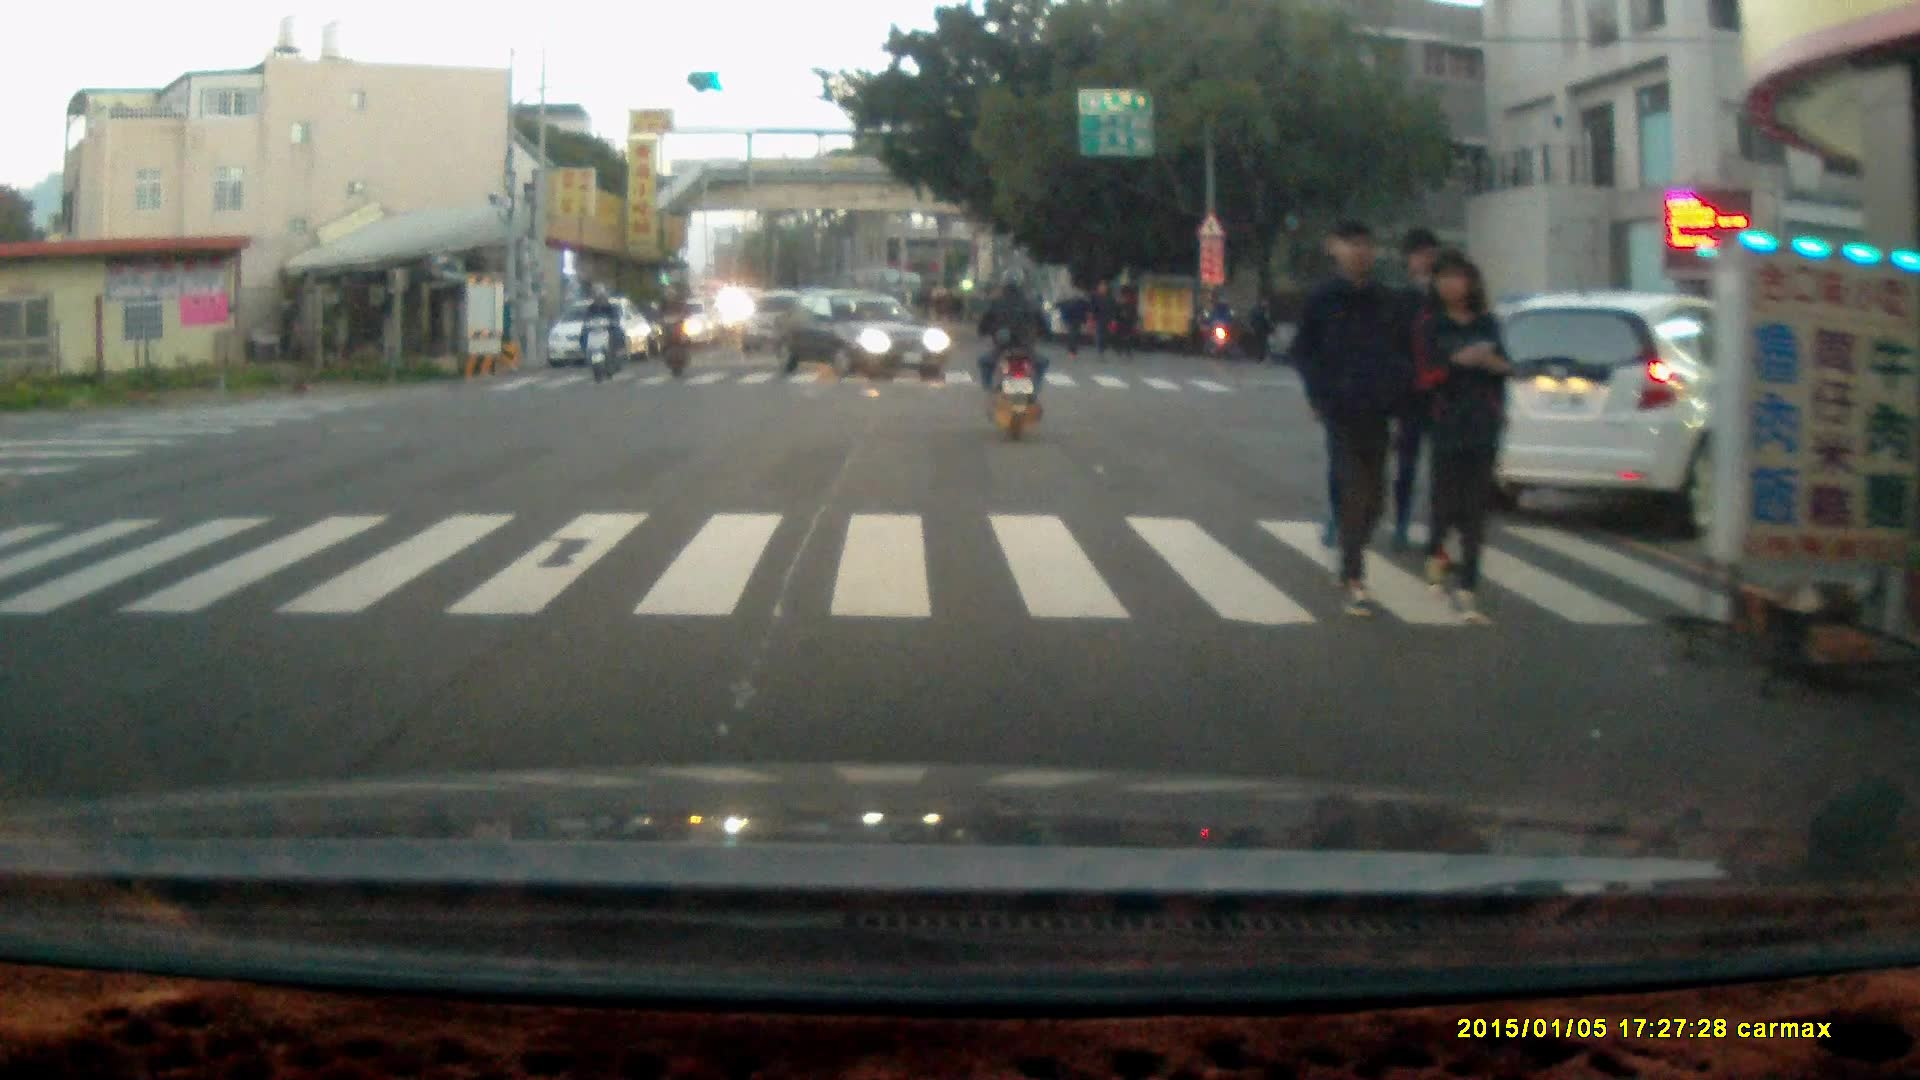pedestrian: (1287, 214, 1419, 624), (1413, 248, 1509, 623), (1245, 288, 1276, 365), (1088, 276, 1116, 359), (1109, 285, 1141, 358), (1056, 281, 1084, 357)
rider: (977, 260, 1050, 443), (579, 282, 624, 383), (651, 280, 696, 377), (1199, 292, 1239, 354)
vehicle: (1459, 284, 1878, 534), (770, 284, 954, 378), (549, 297, 652, 367)
